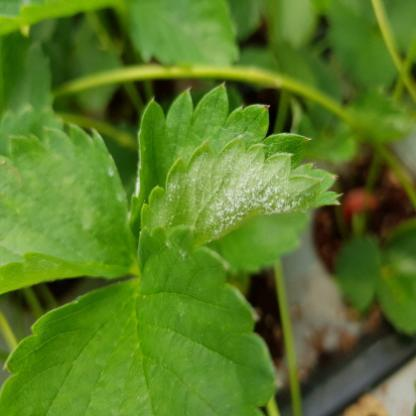Strawberry_Powdery_Mildew_Leaf: (130, 82, 346, 245), (0, 123, 137, 295)
